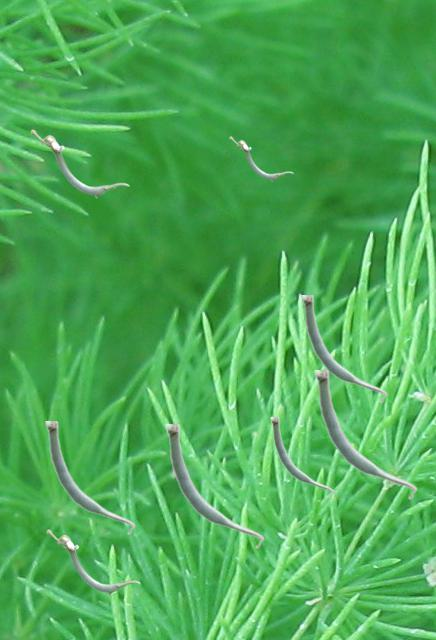french_bean: (314, 370, 416, 499), (165, 424, 263, 548), (45, 421, 134, 534), (301, 295, 386, 402), (30, 129, 128, 197), (46, 529, 139, 594), (270, 417, 333, 497), (229, 136, 292, 180)
